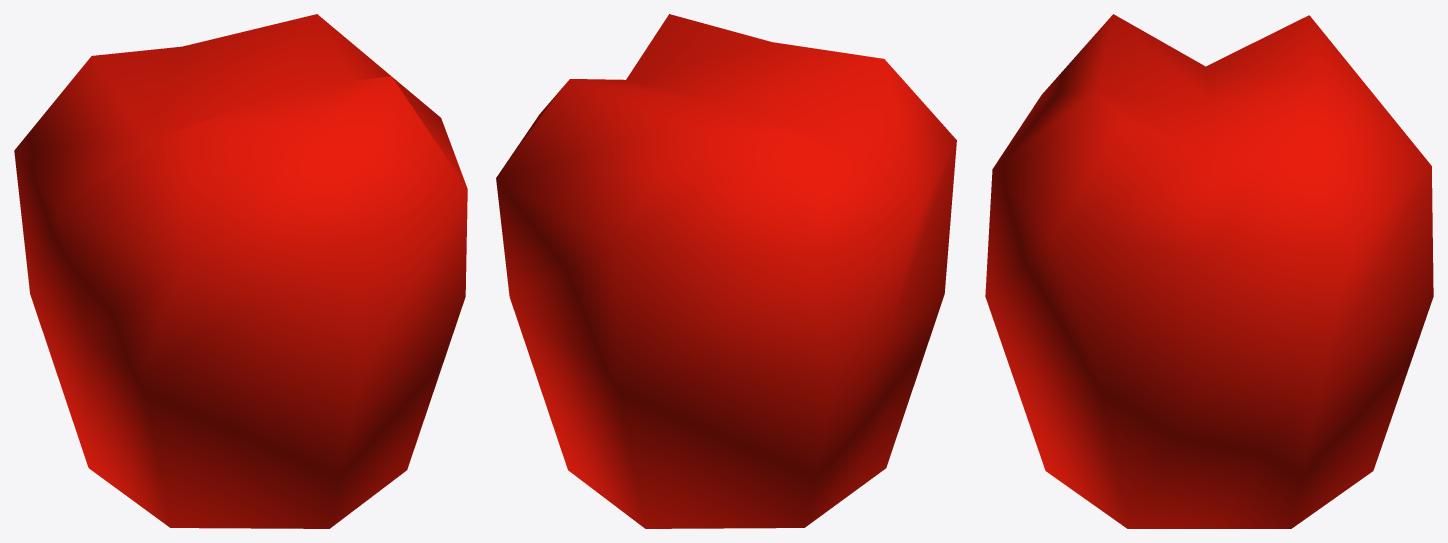
The model's file is apple.fbx.
The picture shows the model from 3 angles, left to right: view 1: azimuth 30°, elevation 25°; view 2: azimuth 150°, elevation 25°; view 3: azimuth 270°, elevation 25°; orthographic projection.
Parts seen in each view (by area): view 1: Circle.014; view 2: Circle.014; view 3: Circle.014.
Boxes of the visible parts, box(x1,y1,x2,y2) form: Circle.014: box(14, 14, 467, 528); Circle.014: box(496, 14, 956, 528); Circle.014: box(985, 14, 1433, 528).
Bounding box in the file's own units: 93.17 × 94.07 × 94.62.
